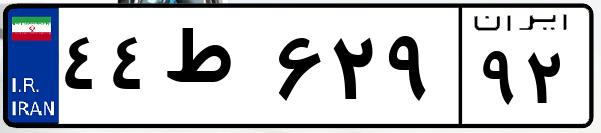2: (330, 28, 385, 110), (525, 38, 570, 115)
4: (57, 26, 110, 100), (110, 28, 158, 98)
6: (270, 28, 330, 110)
9: (385, 28, 445, 110), (475, 38, 525, 113)
ط: (158, 20, 270, 120)
